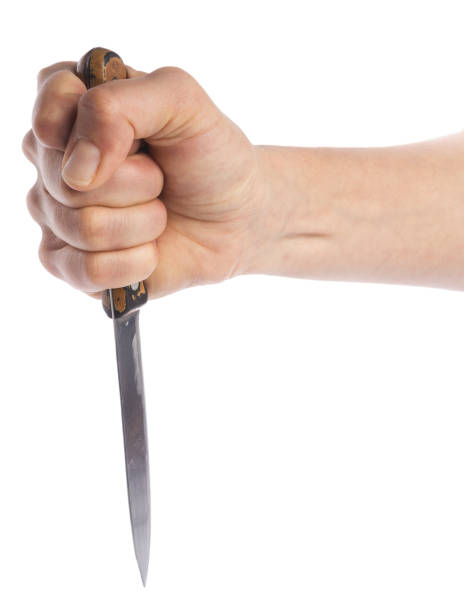knife: (75, 46, 152, 591)
